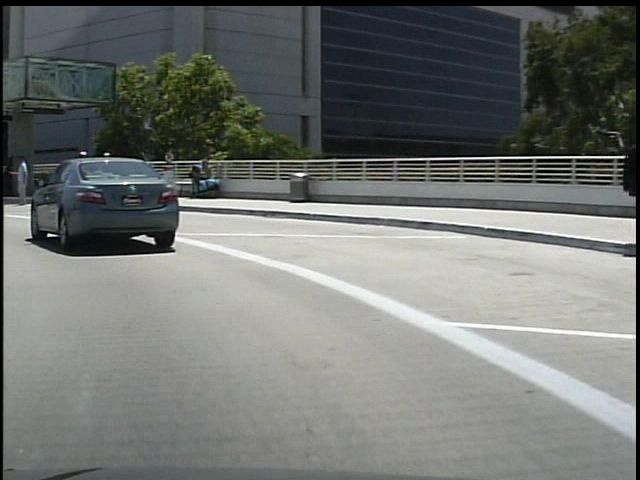person: (613, 118, 640, 252), (10, 152, 31, 209), (95, 148, 116, 202), (69, 147, 89, 200)
